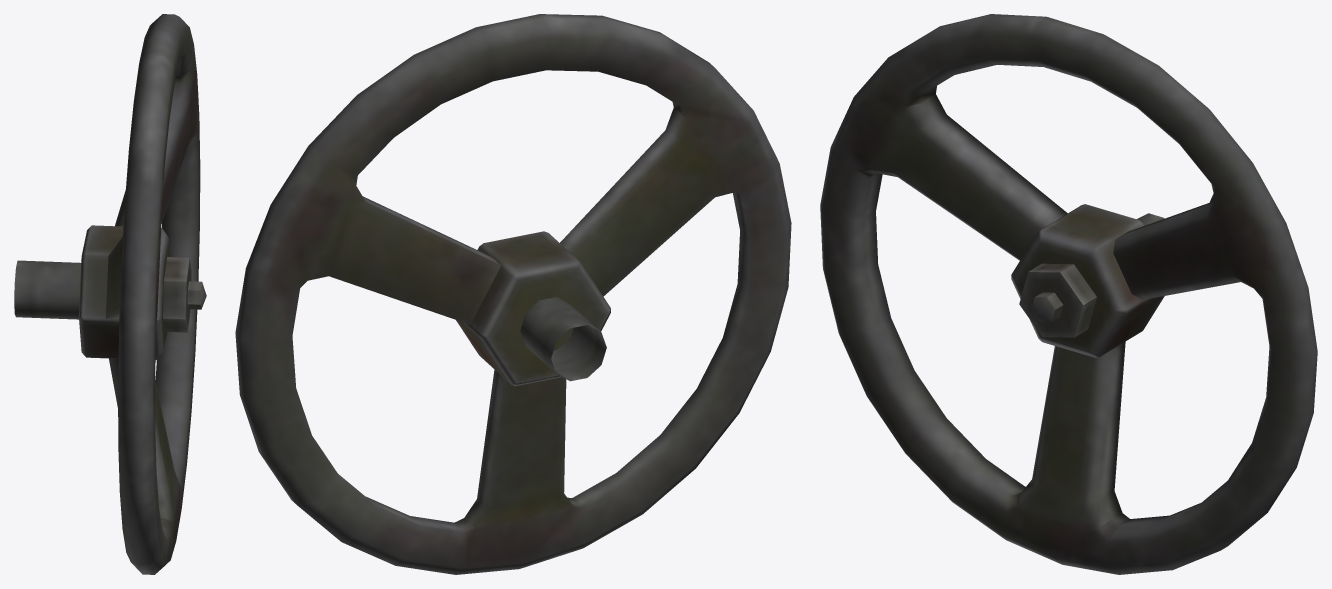
Rendered from SpinThing.glb.
The picture shows the model from 3 angles, left to right: view 1: azimuth 30°, elevation 25°; view 2: azimuth 150°, elevation 25°; view 3: azimuth 270°, elevation 25°; orthographic projection. The views are drawn at different scales.
Visible parts, largest first — view 1: Door; view 2: Door; view 3: Door.
Boxes of the visible parts, x1,y1,x2,y2 form: Door: (14, 14, 206, 574); Door: (235, 14, 791, 574); Door: (820, 14, 1317, 574).
Size of the model in its own units: 23.37 by 38.43 by 32.29.
Materials: 1 (1 with a texture image).
